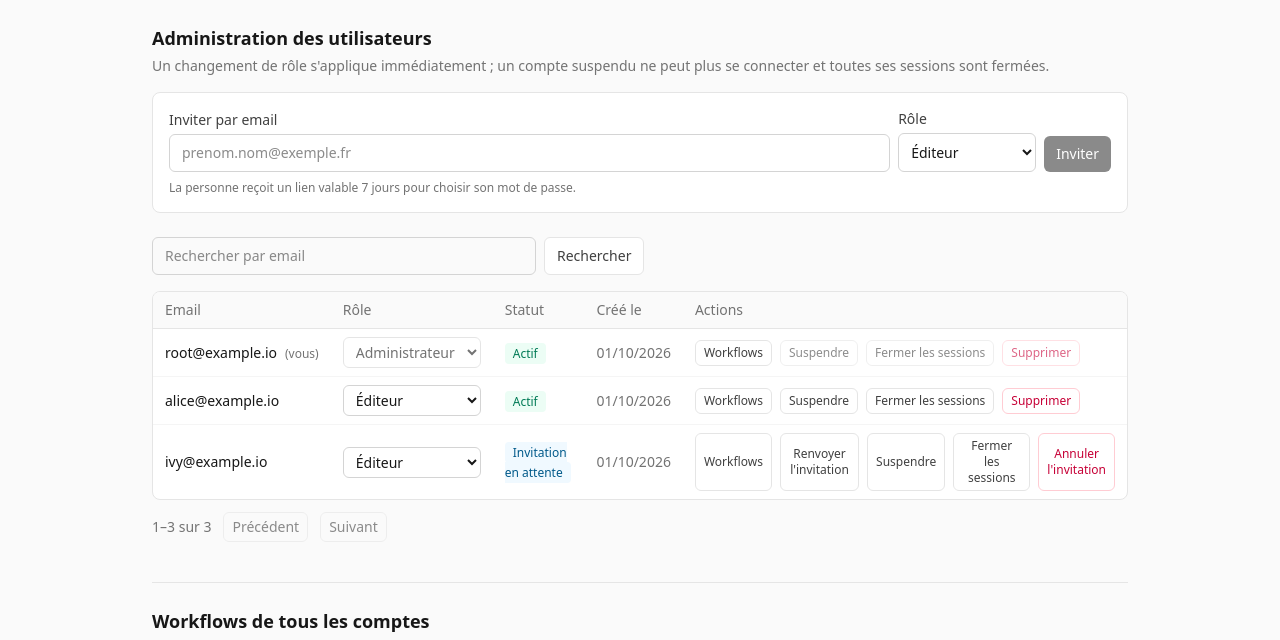
Test: <AdminPanel /> › montre une invitation en attente, la renvoie ou l'annule
Expected: the row that starts with "alice@example.io" is shown, [153,376,1127,424]
Expected: the text "Invitation en attente" is shown, [505,442,571,483]
Click the button with aria-label "Renvoyer l'invitation de ivy@example.io": (820, 462) [780,433,859,491]
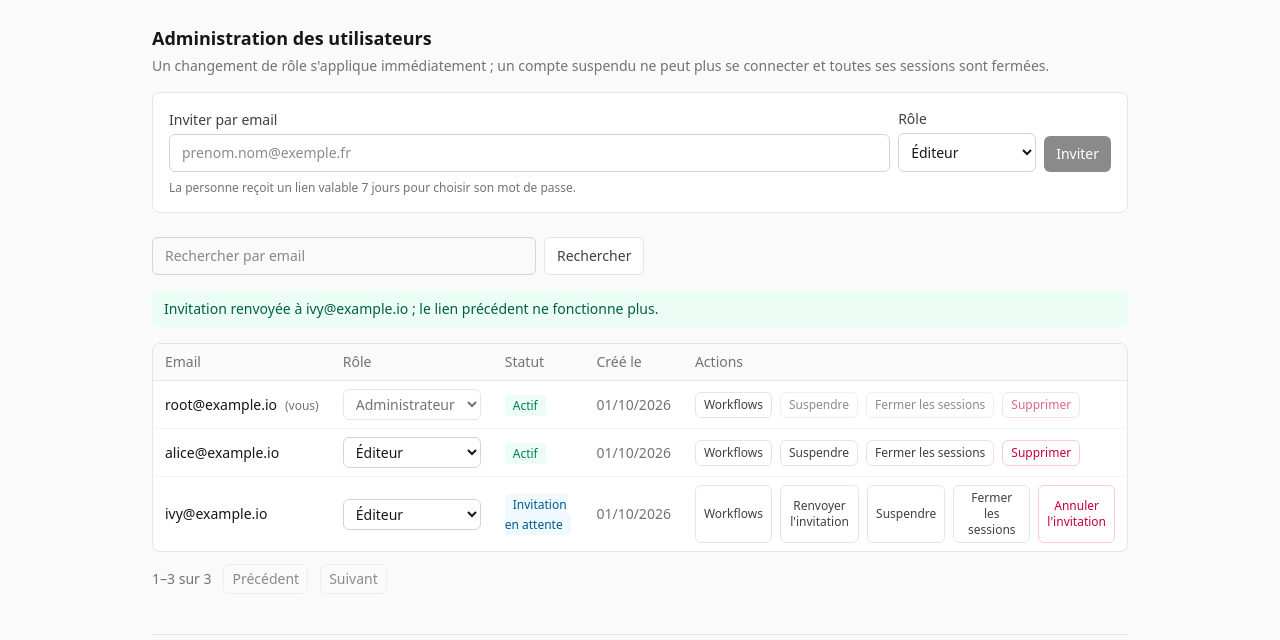
Expected: the message shows "lien précédent ne fonctionne plus", [164,299,658,318]
Click the button "Renvoyer l'invitation": (820, 514) [780,485,859,543]
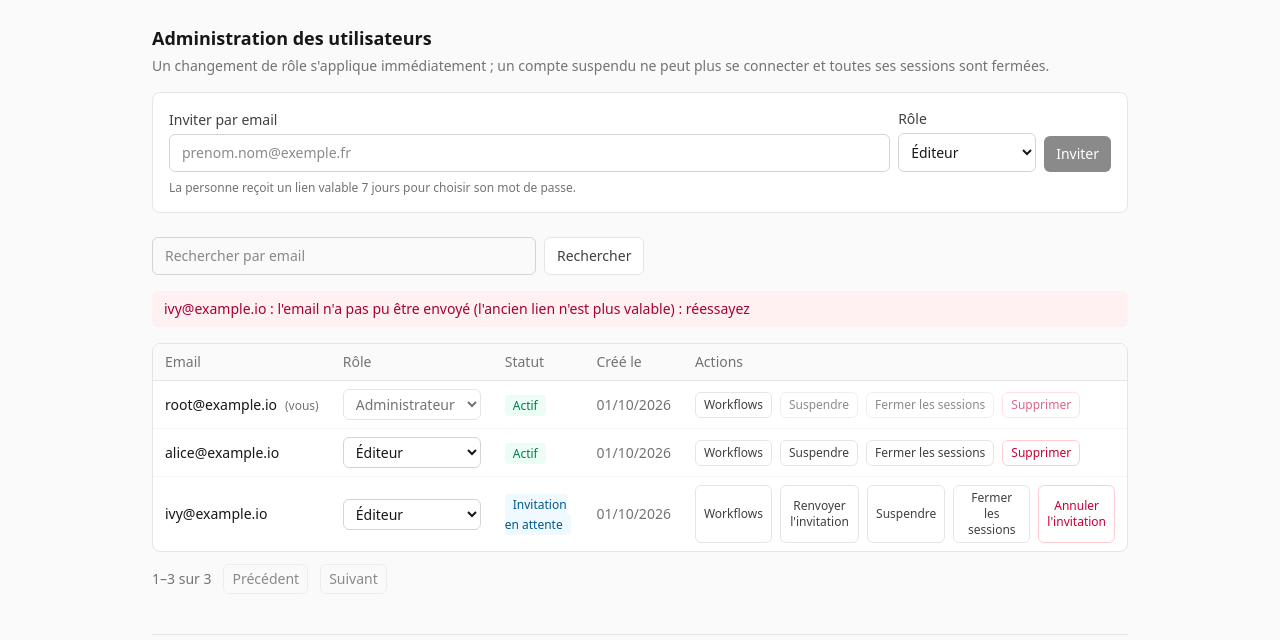
Expected: the message shows "n'a pas pu être envoyé", [164,299,750,318]
Click the button with aria-label "Annuler l'invitation de ivy@example.io": (1077, 514) [1038,485,1115,543]
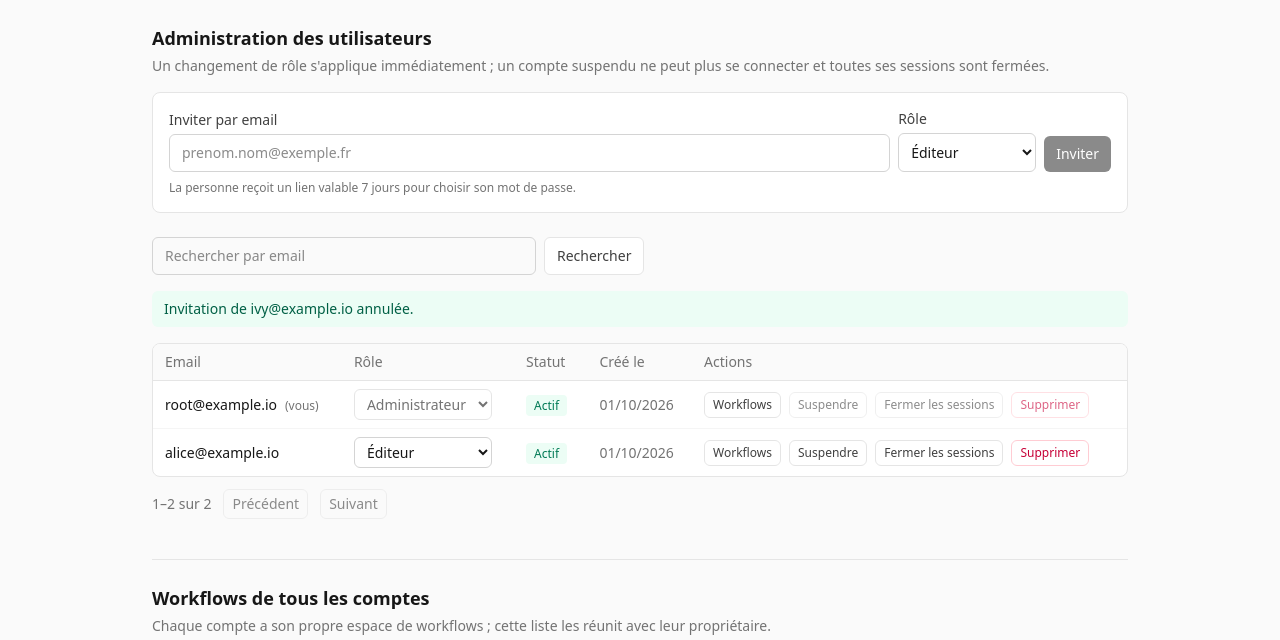
Expected: the message reads "Invitation de ivy@example.io annulée.", [164,299,414,318]
